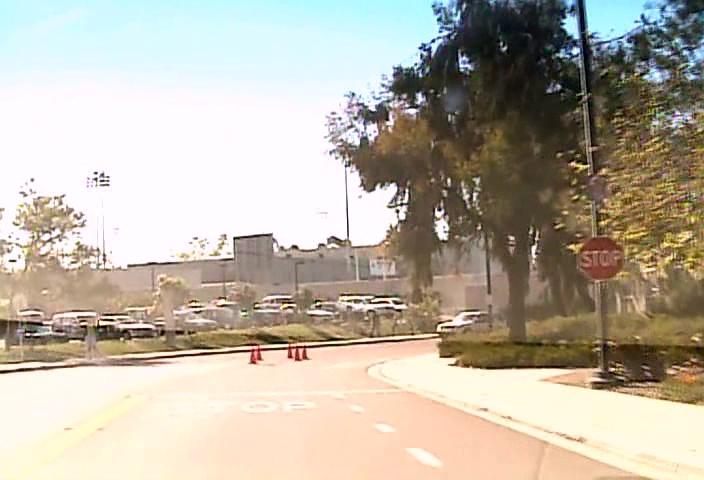stop: (577, 235, 624, 280)
